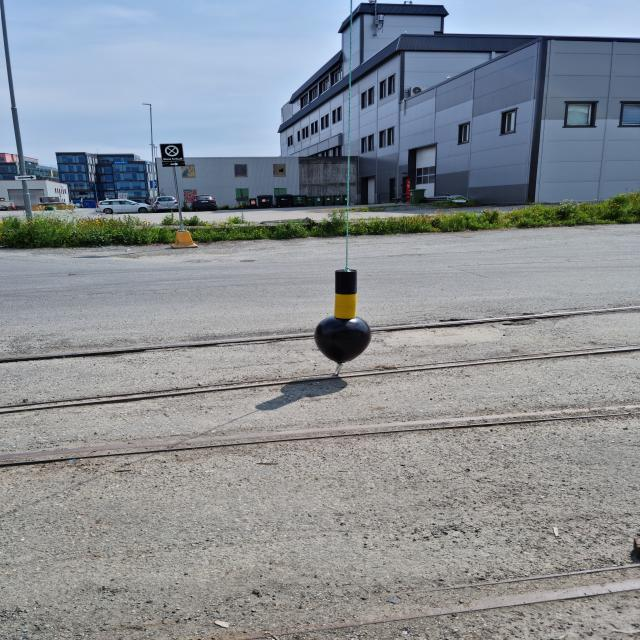east: (314, 271, 372, 363)
